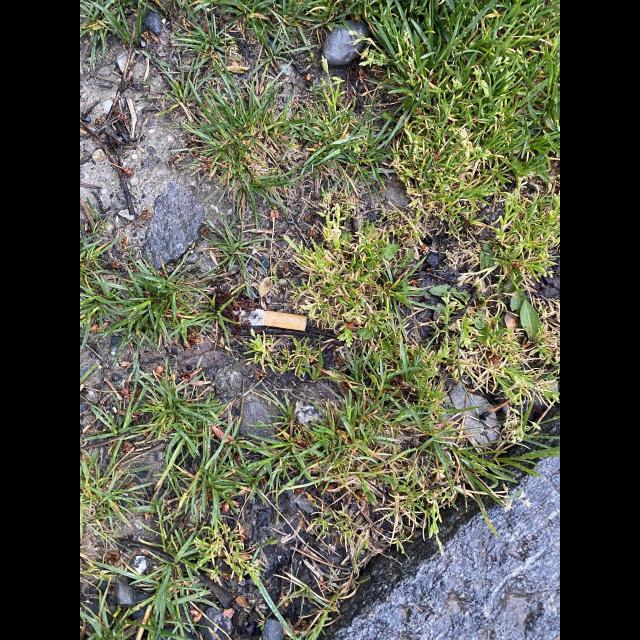cigarette: (232, 308, 308, 331)
